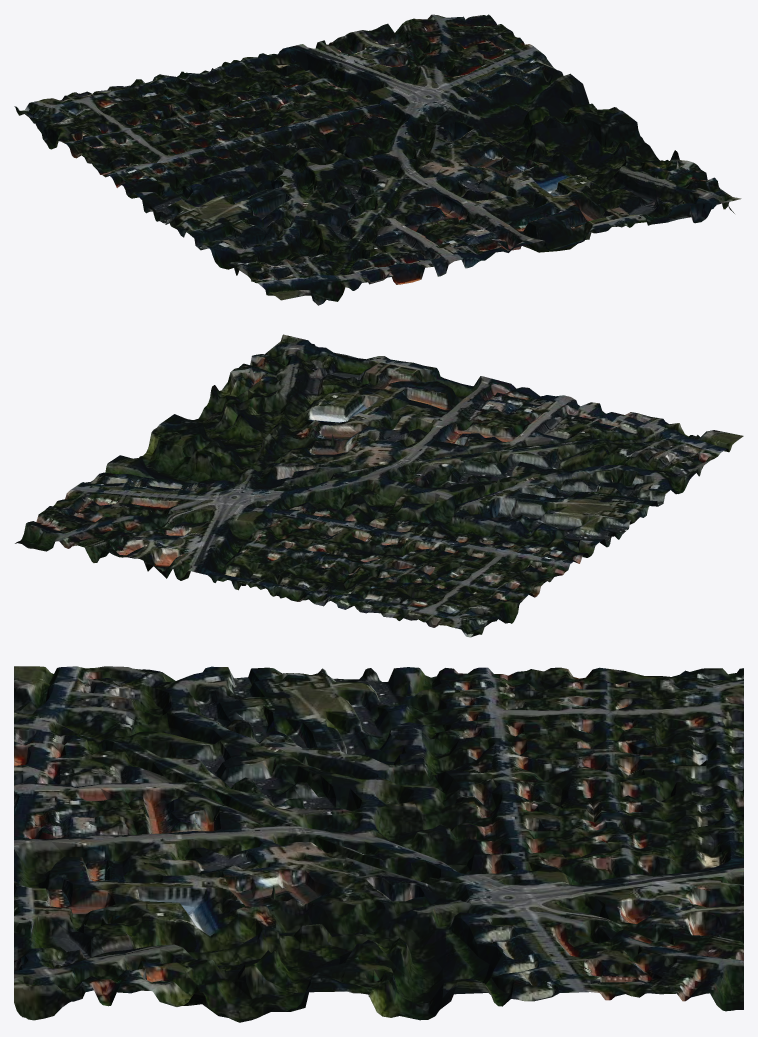
The model's file is map_12_1023_1727.dae.
3 renders of one model, top to bottom at view 1: azimuth 30°, elevation 25°; view 2: azimuth 150°, elevation 25°; view 3: azimuth 270°, elevation 25°, orthographic. The views are drawn at different scales.
Visible parts, largest first — view 1: Ter0; view 2: Ter0; view 3: Ter0.
Boxes of the visible parts, box(x1,y1,x2,y2) form: Ter0: box(14, 14, 741, 305); Ter0: box(15, 334, 743, 637); Ter0: box(14, 666, 743, 1022).
Bounding box in the file's own units: 511 × 511 × 39.61.
2 materials, 2 textured.
